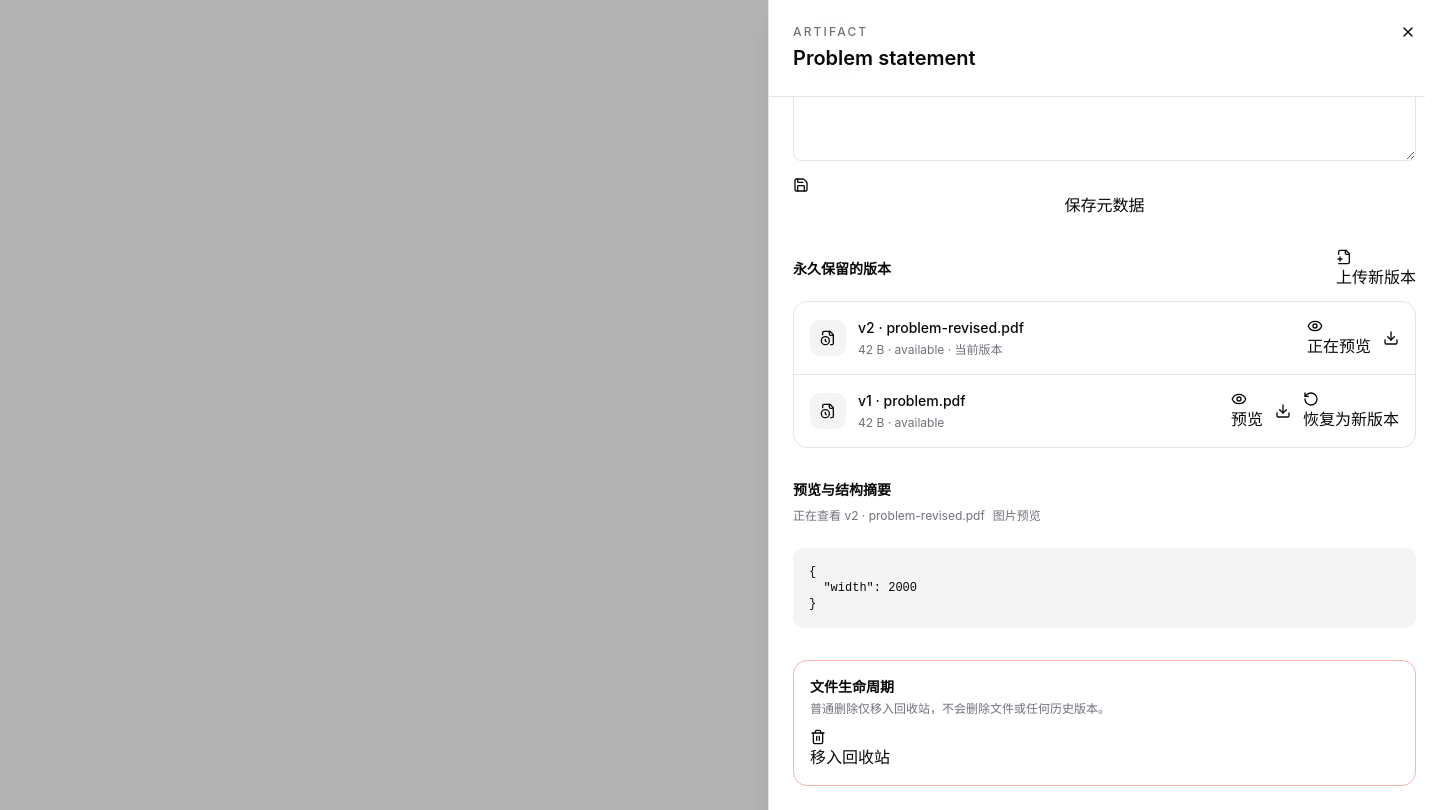
Artifact detail drawer › selects and loads an independent preview for every immutable version
The width and height of the screenshot is (1440, 810).
(page scrolled)
Check: the text "{ \"width\": 2000 }" is shown, box [793,548,1416,628]
Click the button with aria-label "预览版本 1" at (1247,411), box [1231,391,1263,431]
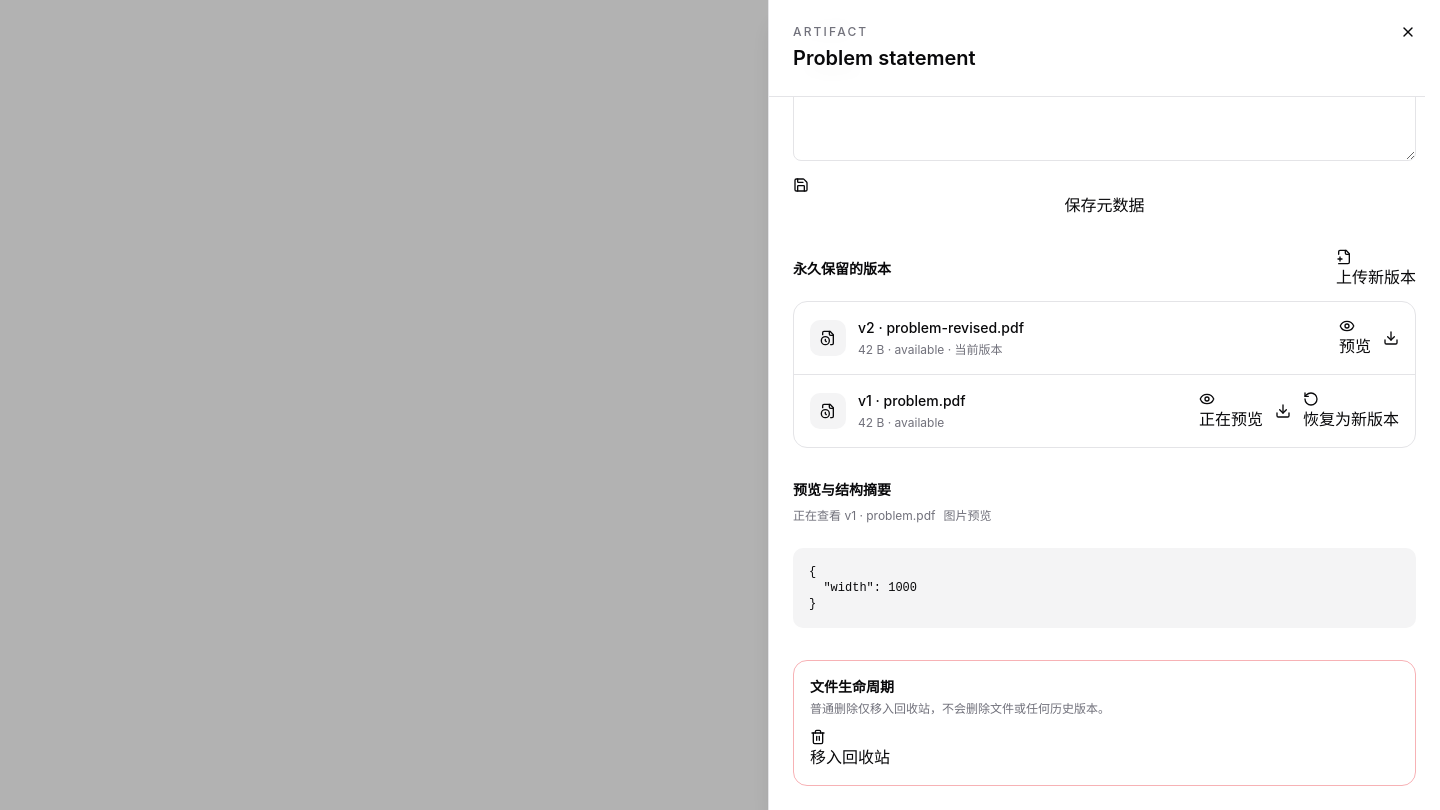
Check: the text "正在查看 v1 · problem.pdf" is shown, box [793,508,936,524]
Check: the text "{ \"width\": 1000 }" is shown, box [793,548,1416,628]
